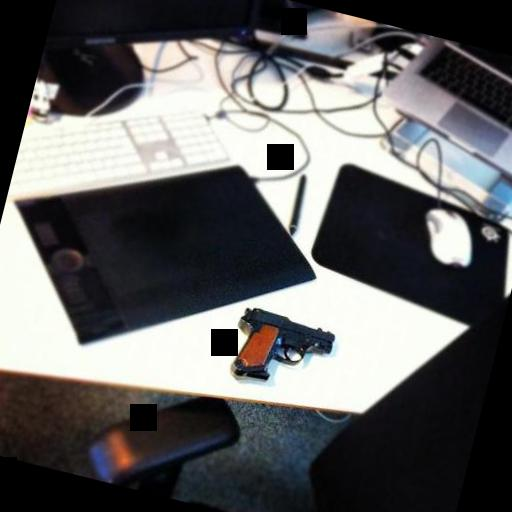Handgun: (222, 298, 338, 398)
